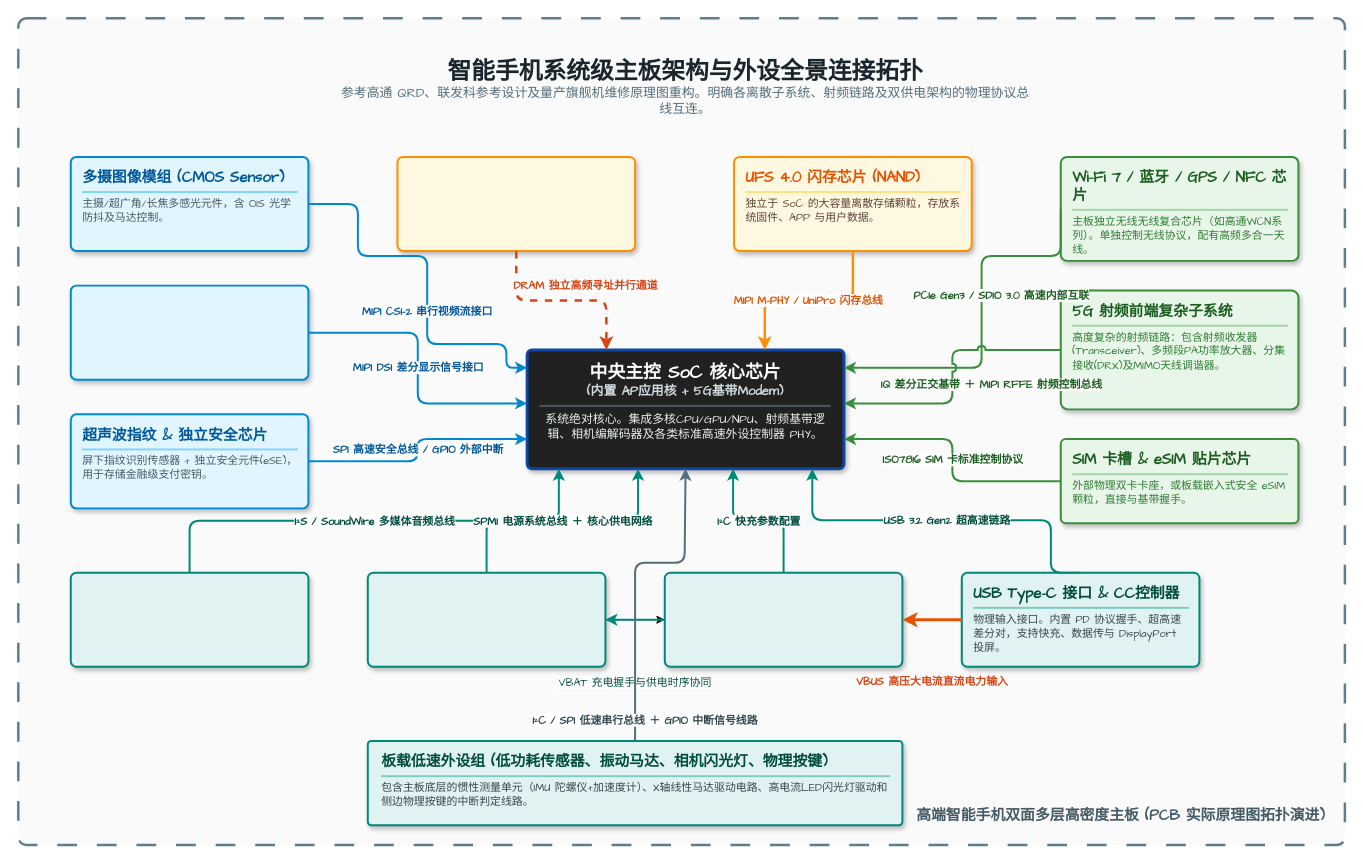
This 1363x863 diagram has some shape labels left out. The centre of each missing label's shape, as x and y in pixels:
"LPDDR5/5X 运行内存颗粒 通过 PoP 3D /SiP 封装和 SoC 连接，一般就在 SoC 头顶或在旁边紧密排布，走极短距离线宽。" goes at (x=517, y=204).
"OLED 高刷显示屏 & 触控 高刷屏幕面板，集成独立 Touch 触控 IC、指纹透光区。" goes at (x=190, y=333).
"主电源管理芯片 (PMIC) 系统供电大脑。通过多路 Buck 降压与 LDO 线性稳压管理全板各芯片复杂的开机供电时序。" goes at (x=487, y=620).
"独立电荷泵快充芯片 专门管理高压直充的离散芯片。与 USB-C 接口连接，并通过 I²C 总线与主 PMIC 及 SoC 动态协同。" goes at (x=784, y=620).
"音频 Codec & 智能功放 离散音频解码芯片及大功率 Smart PA，驱动立体声扬声器与降噪麦克风。" goes at (x=190, y=620).
